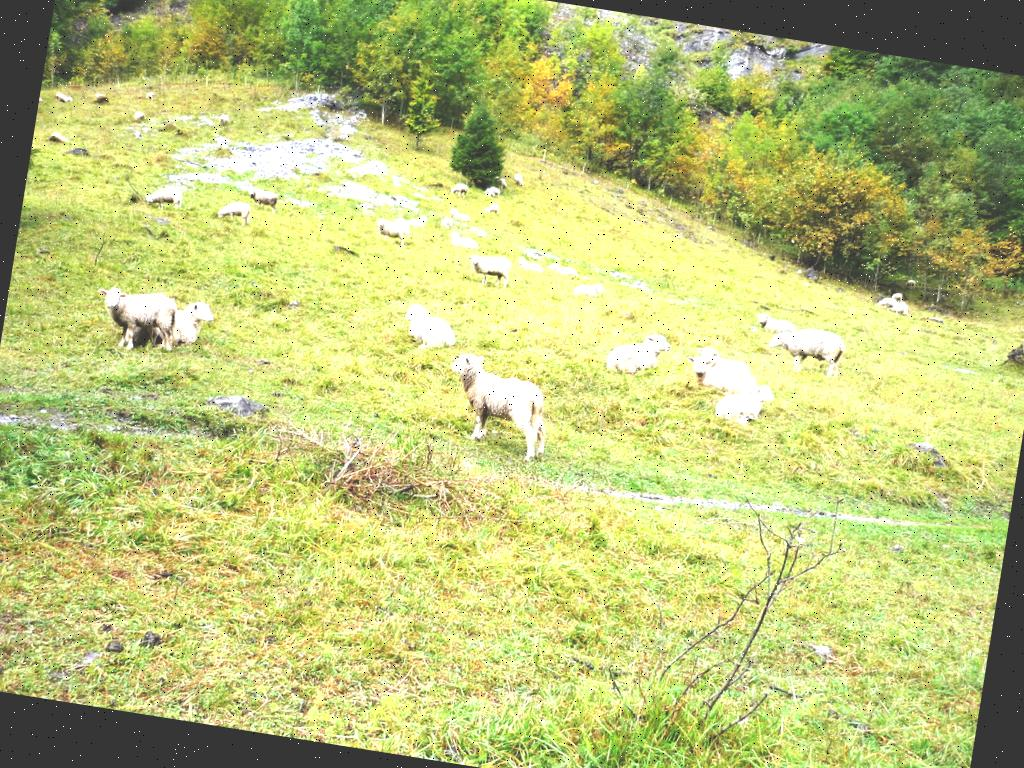Sheep: (428, 344, 562, 466), (86, 282, 182, 356), (706, 370, 778, 440), (146, 286, 222, 352), (760, 321, 848, 378), (599, 322, 674, 385), (393, 300, 463, 364), (677, 354, 753, 394), (690, 340, 751, 375), (462, 252, 514, 292), (140, 178, 188, 214), (747, 304, 796, 335), (213, 200, 256, 227), (371, 218, 415, 243), (540, 254, 582, 280), (244, 184, 280, 213), (572, 276, 604, 306), (446, 228, 479, 254), (404, 210, 432, 234), (512, 253, 542, 272), (447, 207, 474, 227), (447, 182, 471, 200), (508, 166, 526, 188), (480, 200, 502, 216), (482, 182, 496, 196)
